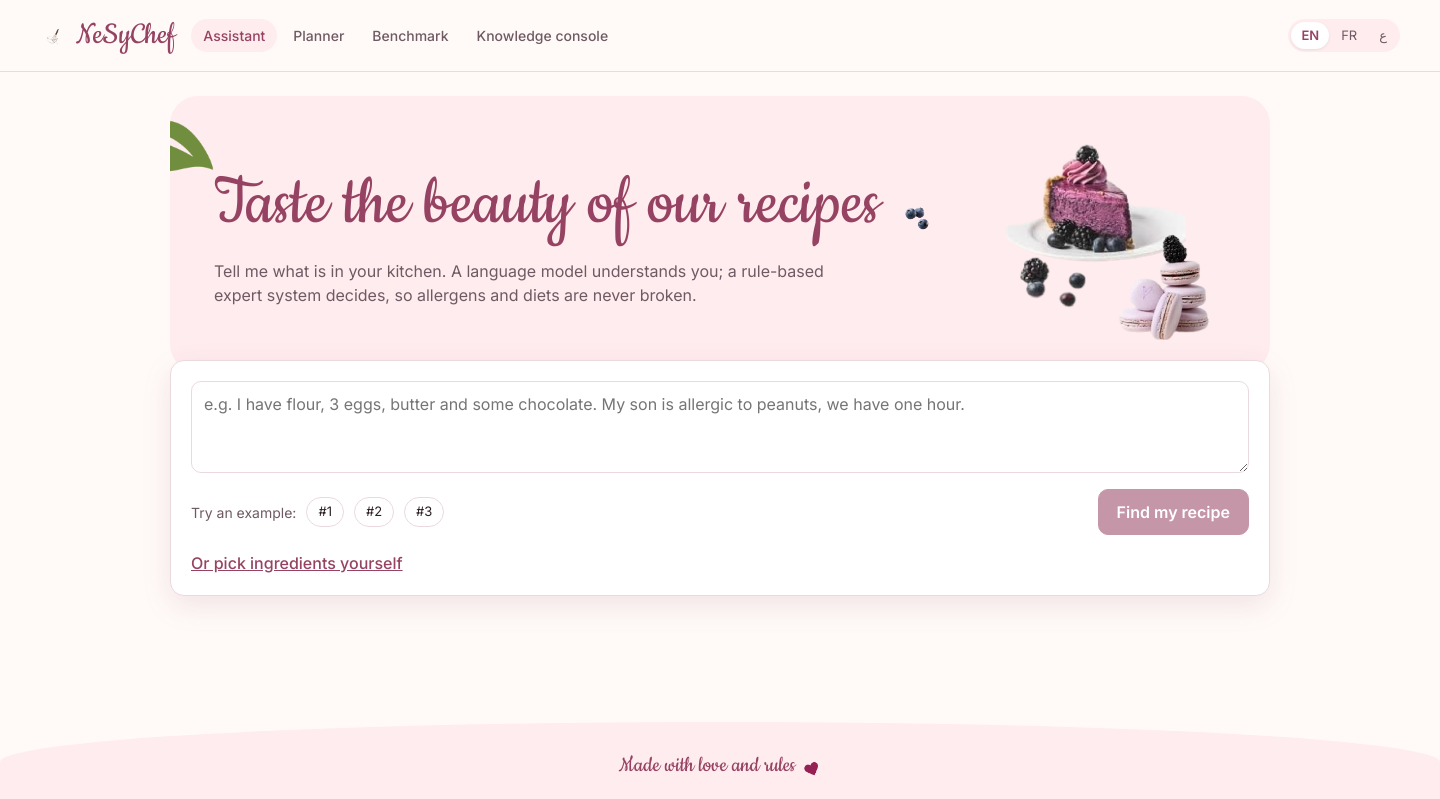
Test: NeSyChef UI › builds a structured request with the ingredient picker and sends it to the engine
The width and height of the screenshot is (1440, 799).
Click the button "Or pick ingredients yourself". click: (297, 563)
box: [191, 551, 403, 575]
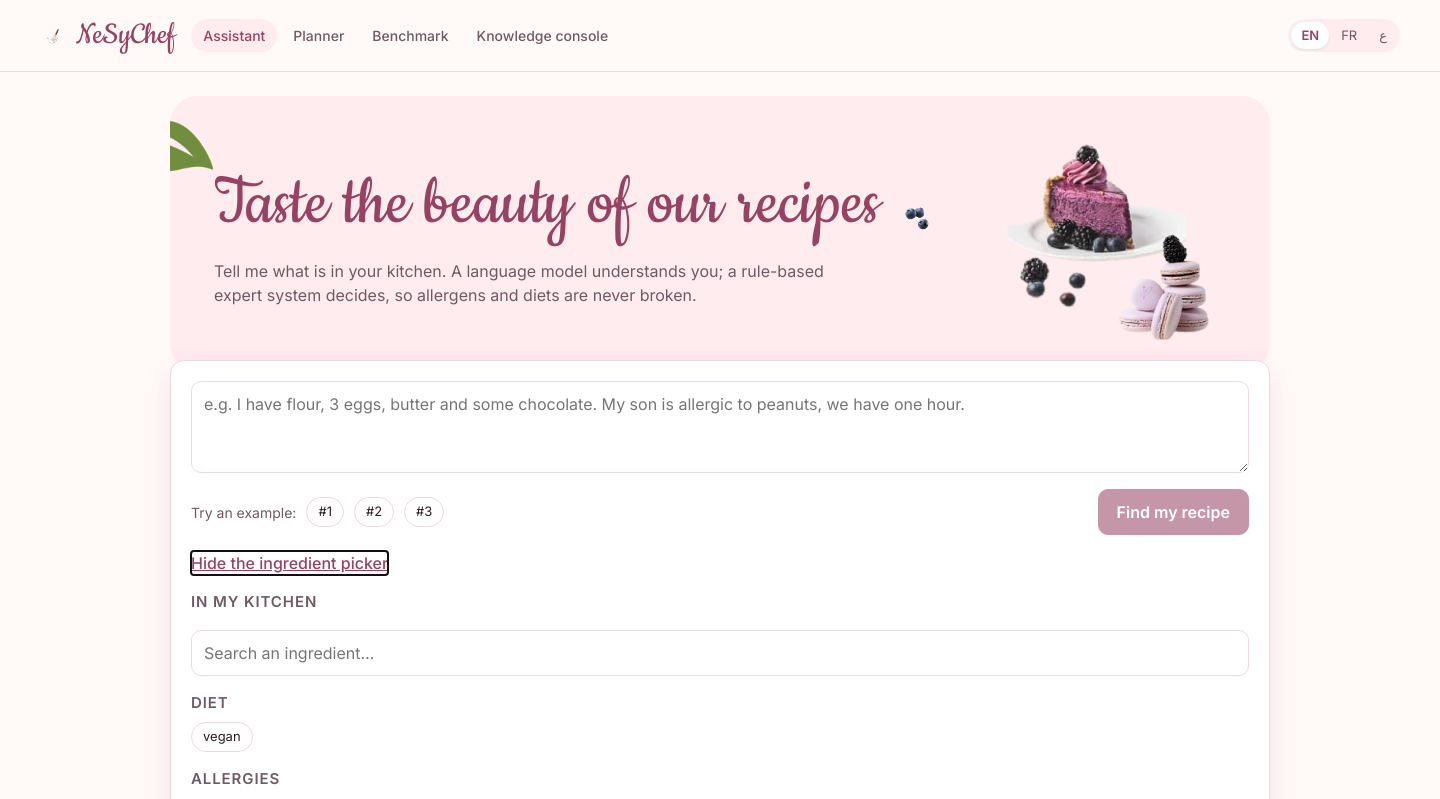
Type "flour" into the field labelled "Search an ingredient…". click: (720, 652)
box: [191, 630, 1249, 676]
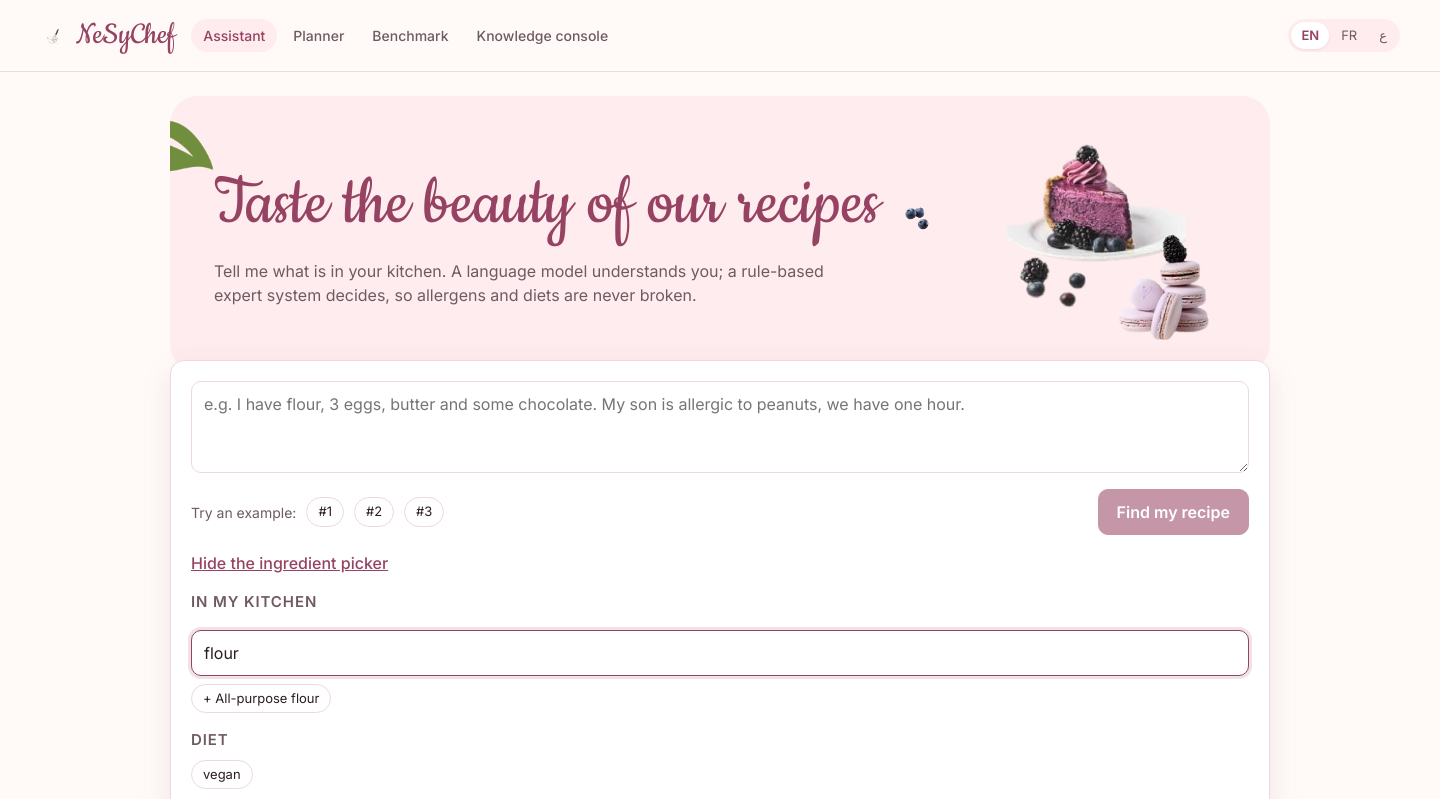
Click the button "+ All-purpose flour". click: (261, 698)
box: [191, 684, 332, 713]
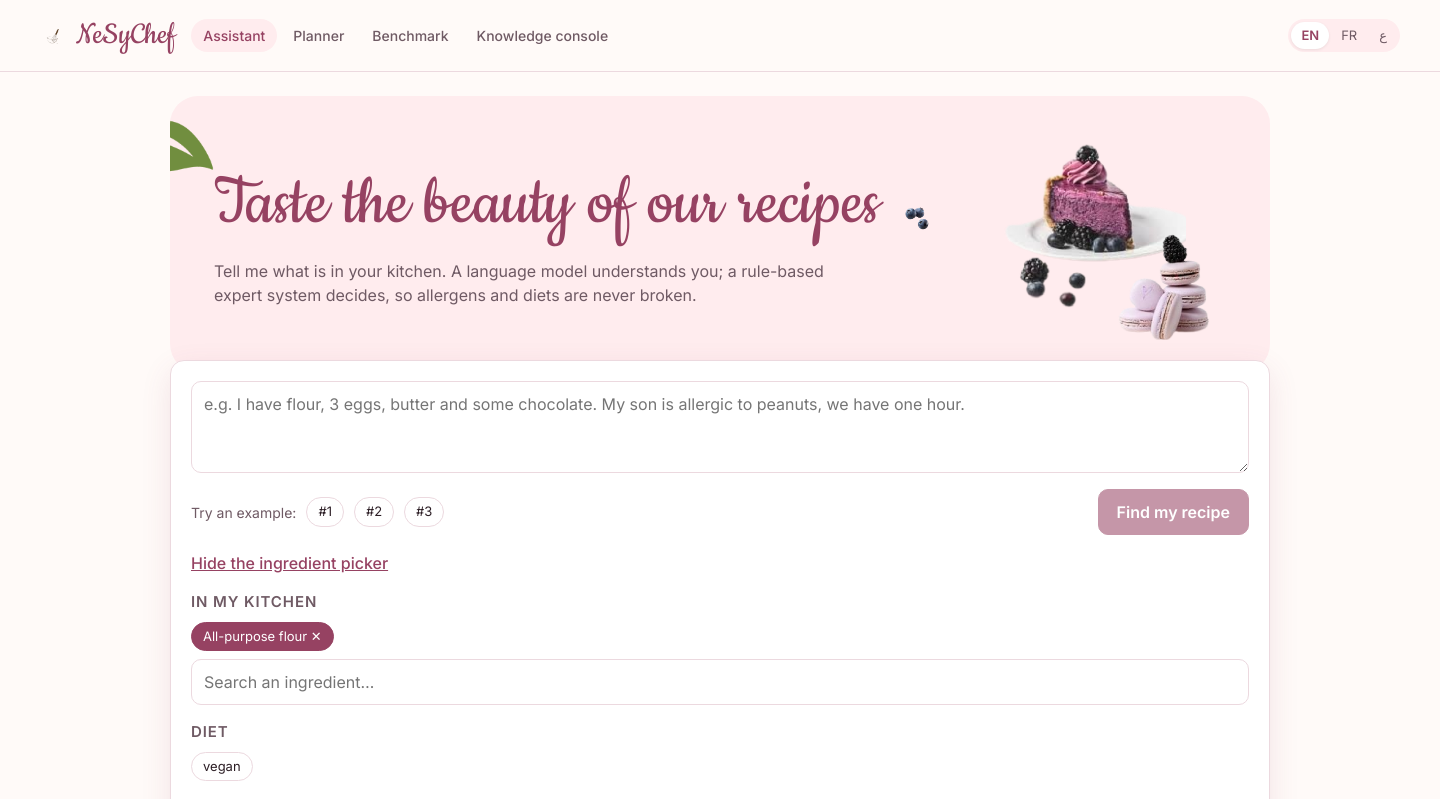
Click the button "vegan". click: (222, 766)
box: [191, 752, 253, 781]
(page scrolled)
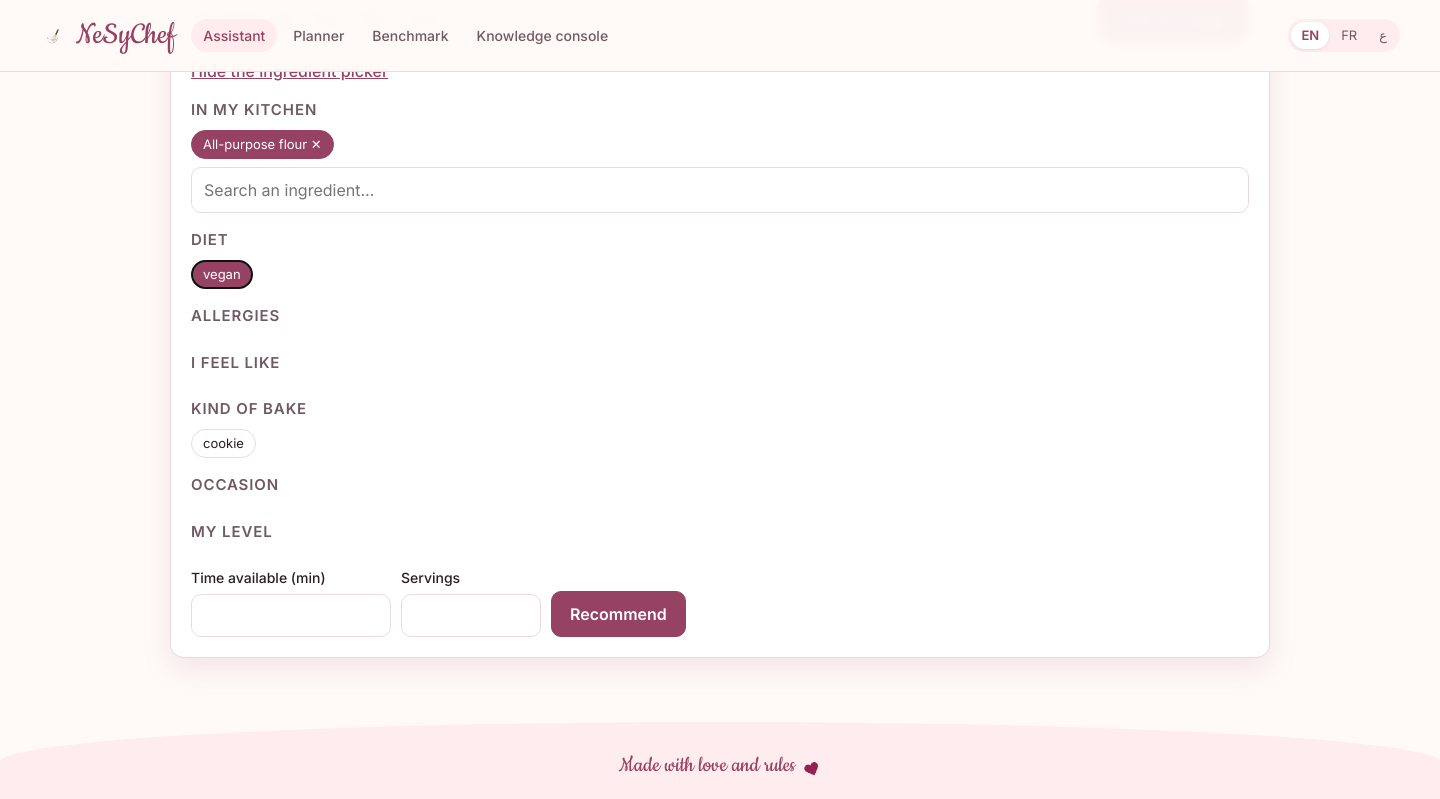
Click the button "Recommend". click: (618, 614)
box: [551, 591, 686, 637]
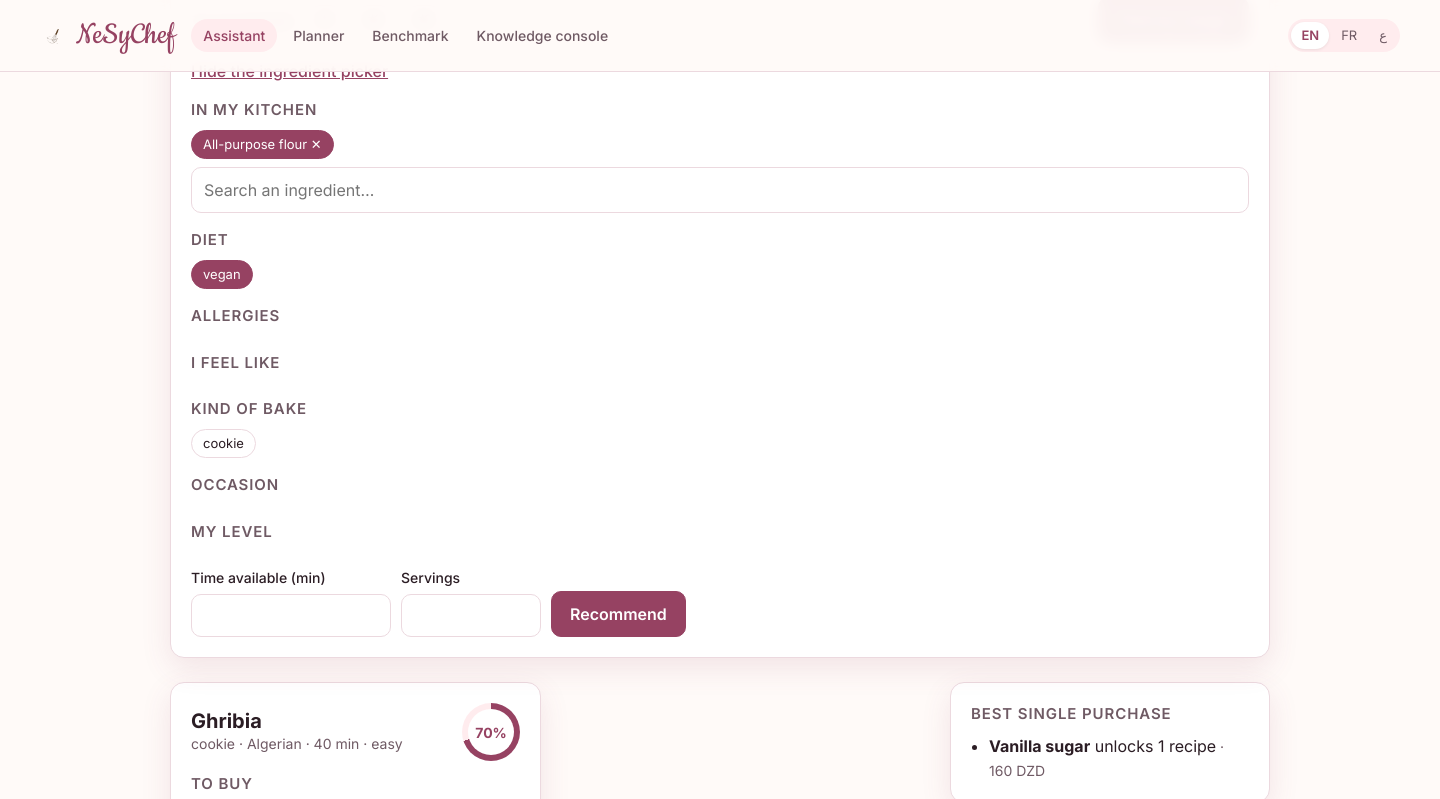
Expected: the heading "Ghribia" is shown, [191, 709, 262, 733]
